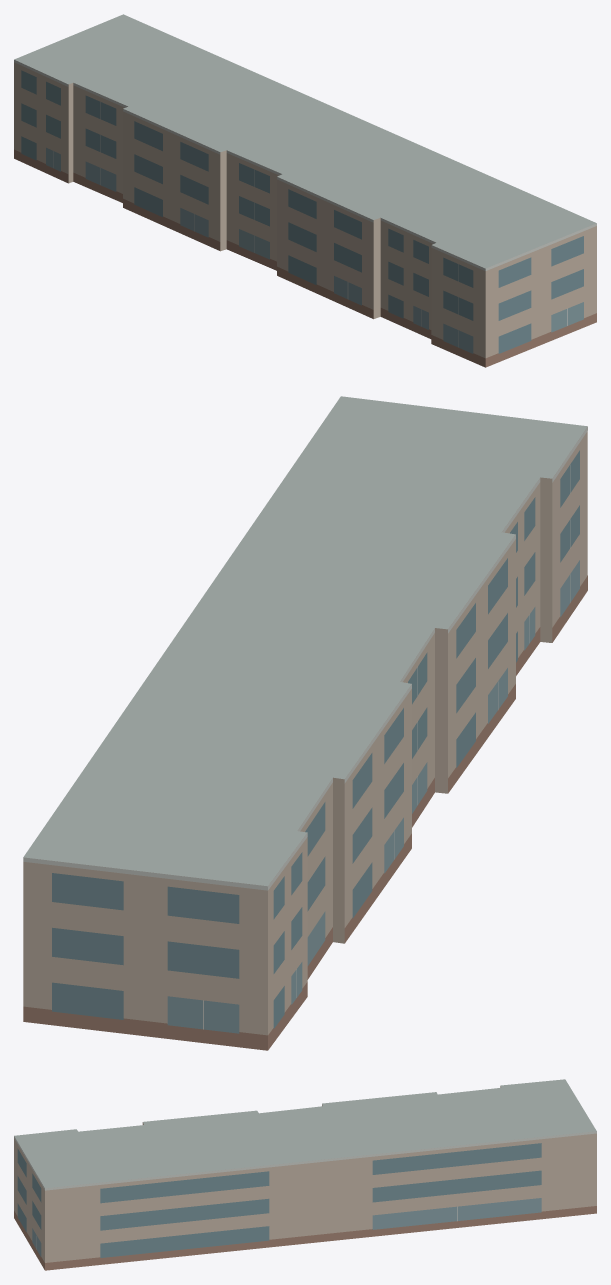
The model's file is survey-upis-32470406.glb.
3 renders of one model, top to bottom at view 1: azimuth 30°, elevation 25°; view 2: azimuth 150°, elevation 25°; view 3: azimuth 270°, elevation 25°, orthographic. The views are drawn at different scales.
Visible parts, largest first — view 1: survey-upis-32470406.tmp; view 2: survey-upis-32470406.tmp; view 3: survey-upis-32470406.tmp.
Part boxes in pixels (x1=…): survey-upis-32470406.tmp: x1=14, y1=14, x2=596, y2=367; survey-upis-32470406.tmp: x1=23, y1=396, x2=587, y2=1050; survey-upis-32470406.tmp: x1=14, y1=1079, x2=596, y2=1270.
Bounding box in the file's own units: 26.06 × 9.15 × 58.81.
